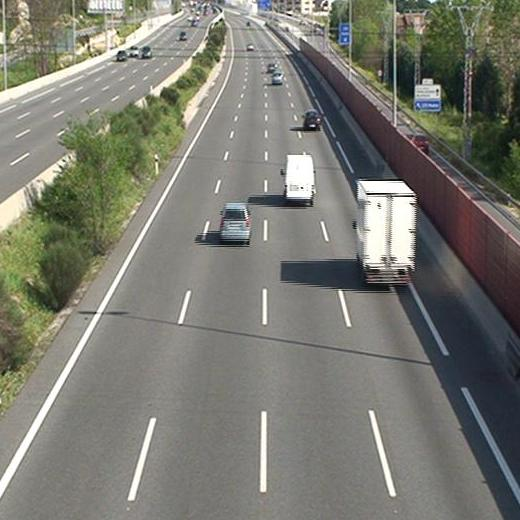car: (219, 202, 252, 240), (304, 110, 321, 130), (271, 71, 282, 85)
small-truck: (356, 180, 416, 286)
van: (283, 155, 316, 203)
